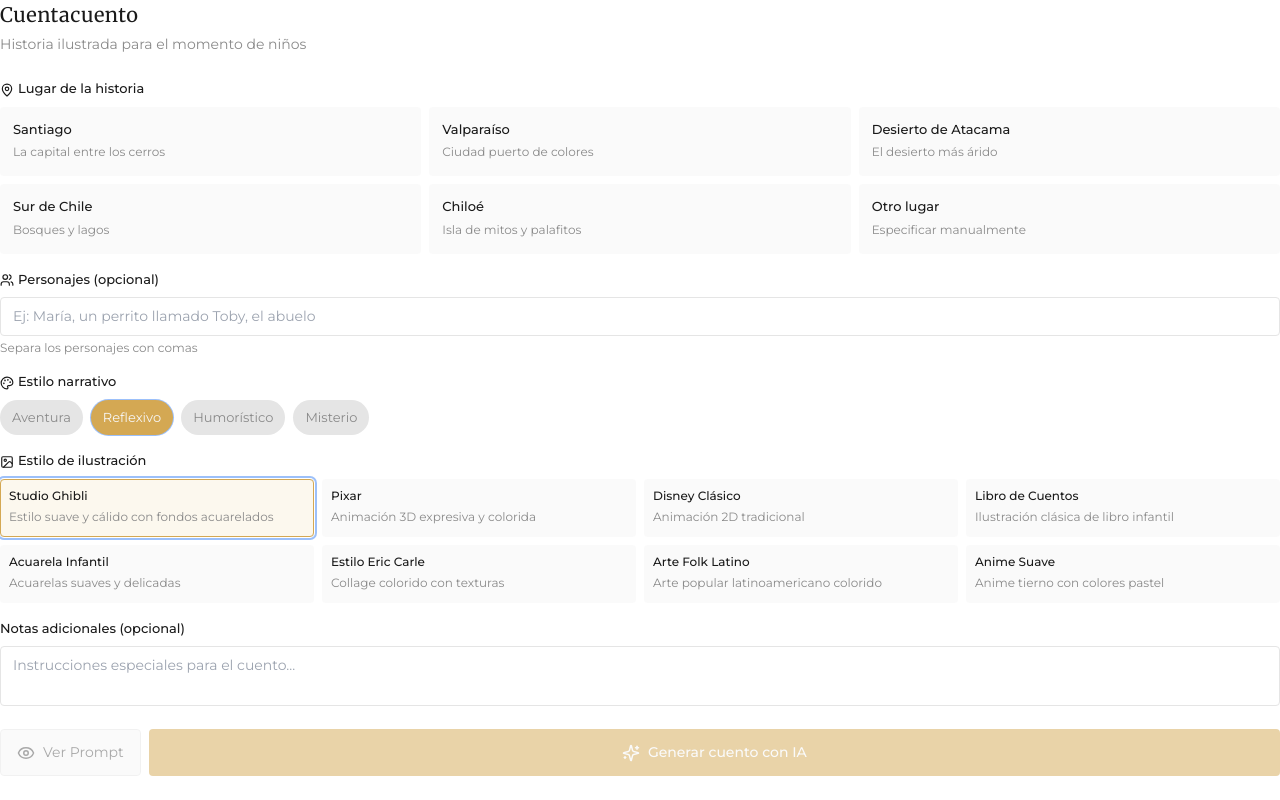
Test case: T-U.3 — aviso en una generación exitosa › el control de descarte lo quita, con su etiqueta exacta
The width and height of the screenshot is (1280, 800).
Click the button "Santiago La capital entre los cerros" at (42, 128), box left=0, top=106, right=421, bottom=176
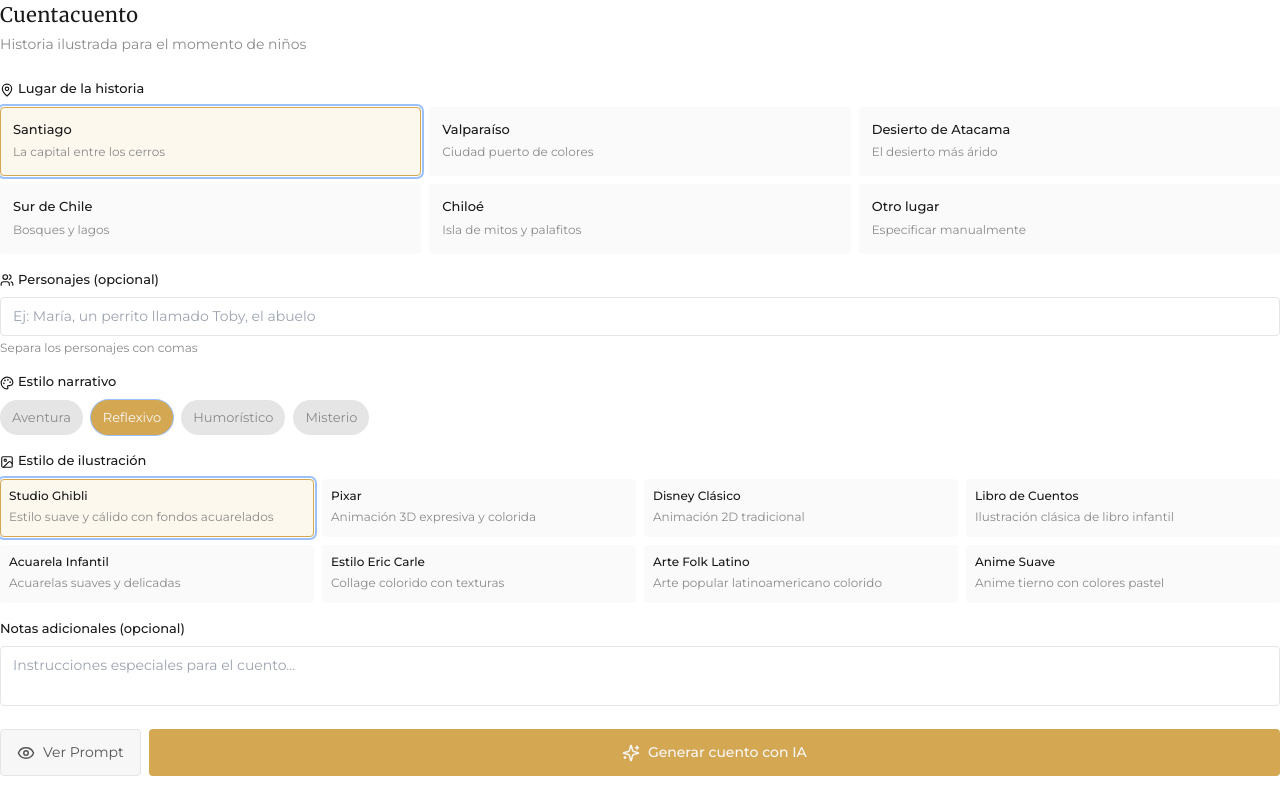
Click the button "Generar cuento con IA" at (714, 752), box left=149, top=729, right=1279, bottom=776
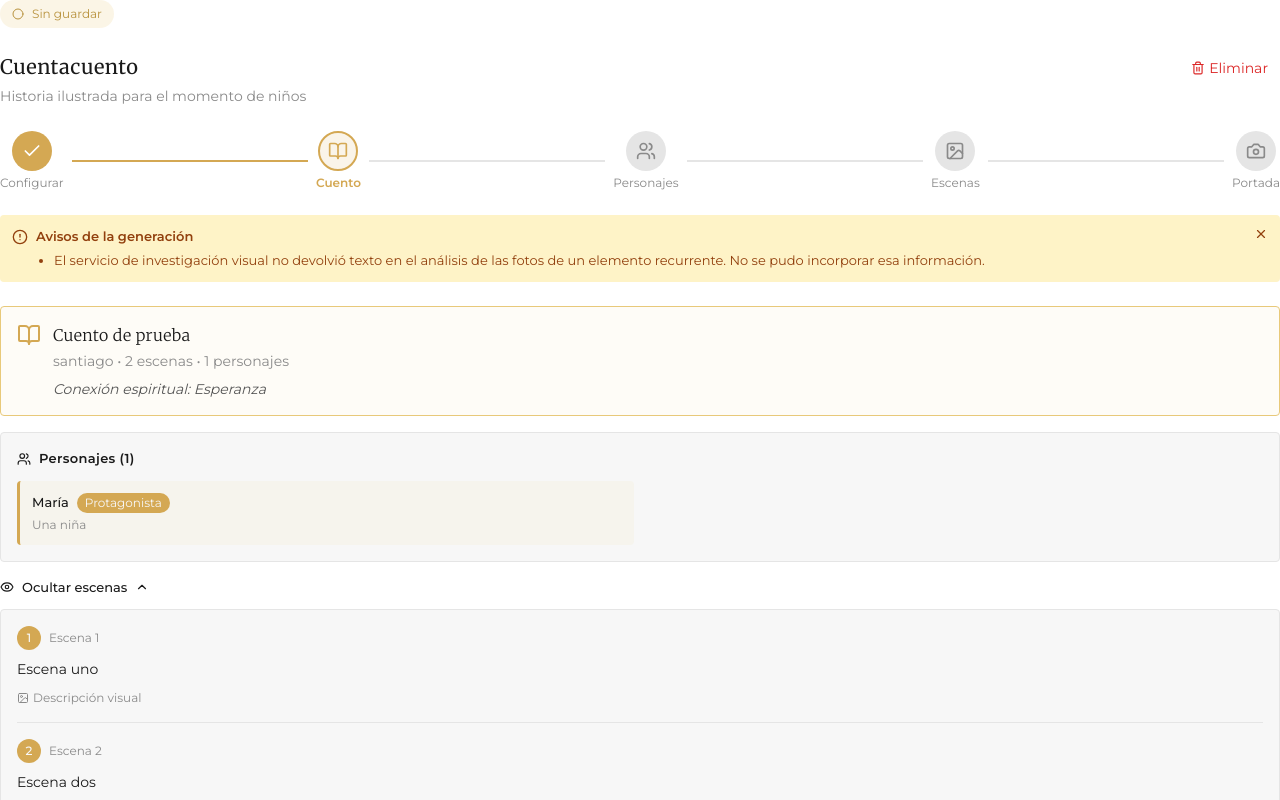
Now the message is shown, box left=0, top=215, right=1279, bottom=282
Click the button named "Ocultar avisos de la generación" at (1261, 234), box left=1254, top=227, right=1268, bottom=241
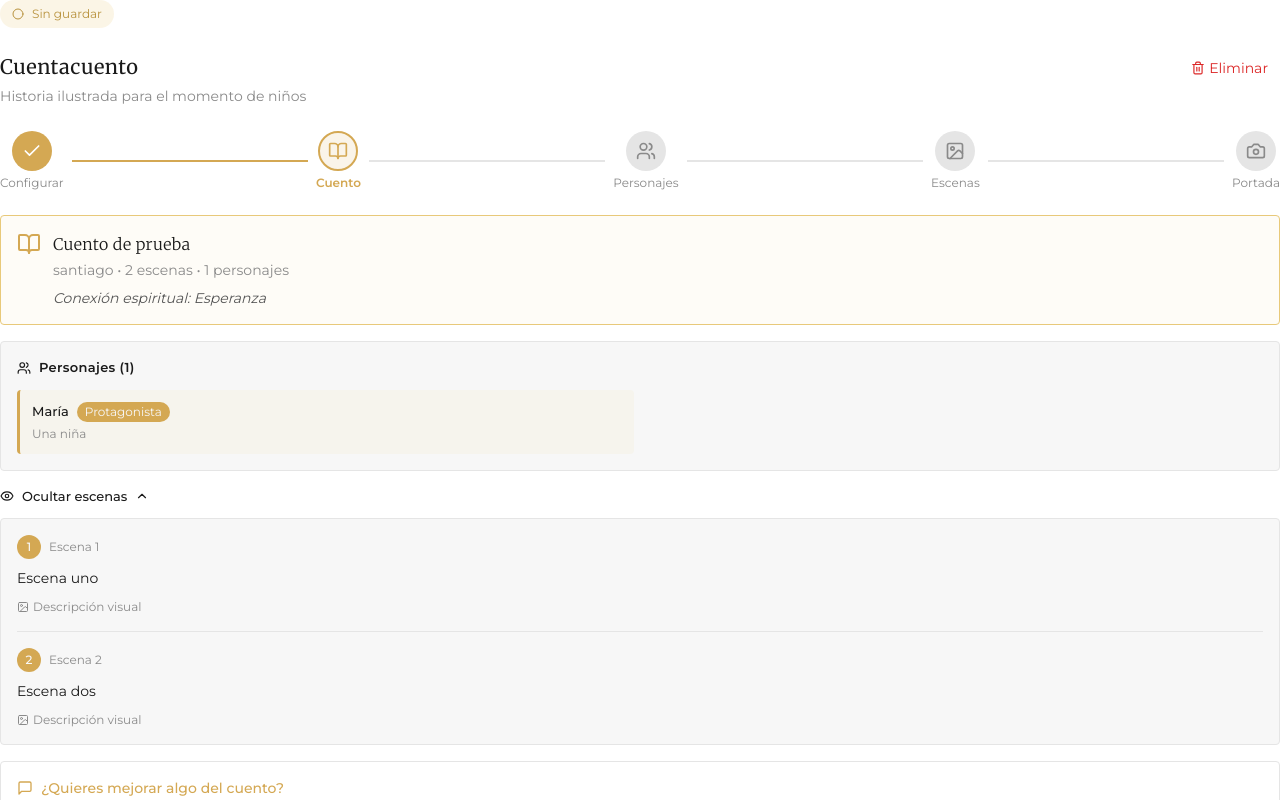
Now the message is gone
